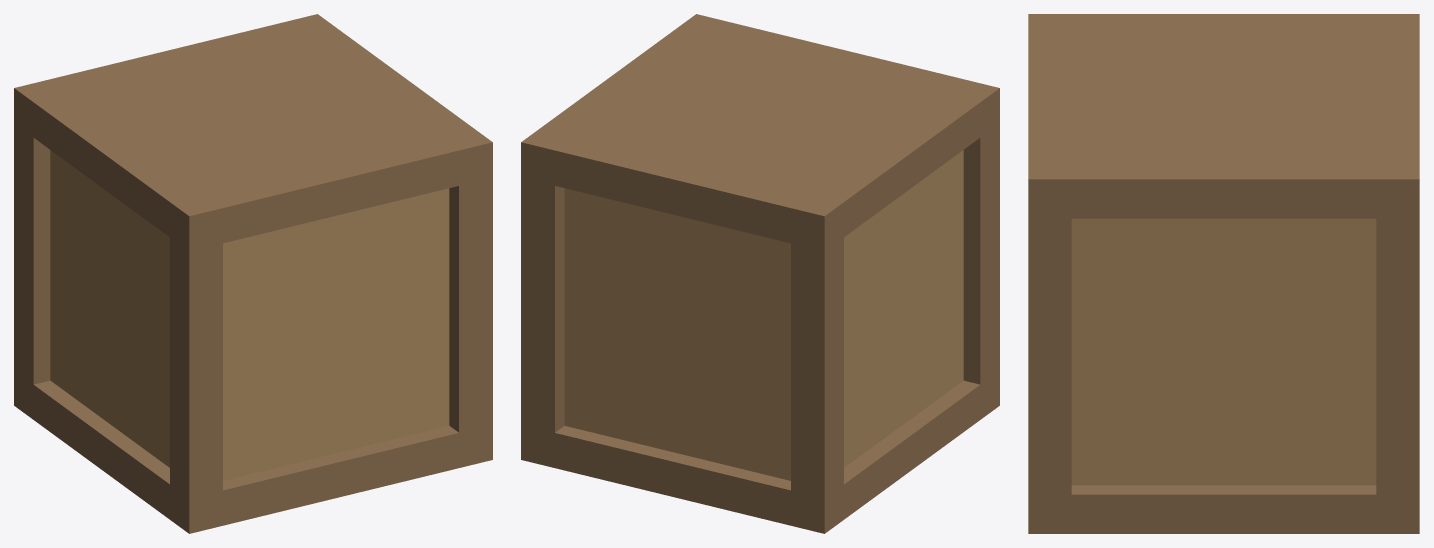
The model's file is crate.glb.
The picture shows the model from 3 angles, left to right: view 1: azimuth 30°, elevation 25°; view 2: azimuth 150°, elevation 25°; view 3: azimuth 270°, elevation 25°; orthographic projection. The views are drawn at different scales.
Parts seen in each view (by area): view 1: Cube; view 2: Cube; view 3: Cube.
Part boxes in pixels (x1,y1,x2,y2): Cube: [14, 14, 492, 533]; Cube: [521, 14, 999, 533]; Cube: [1028, 14, 1419, 533].
Bounding box in the file's own units: 0.9 × 0.9 × 0.9.
